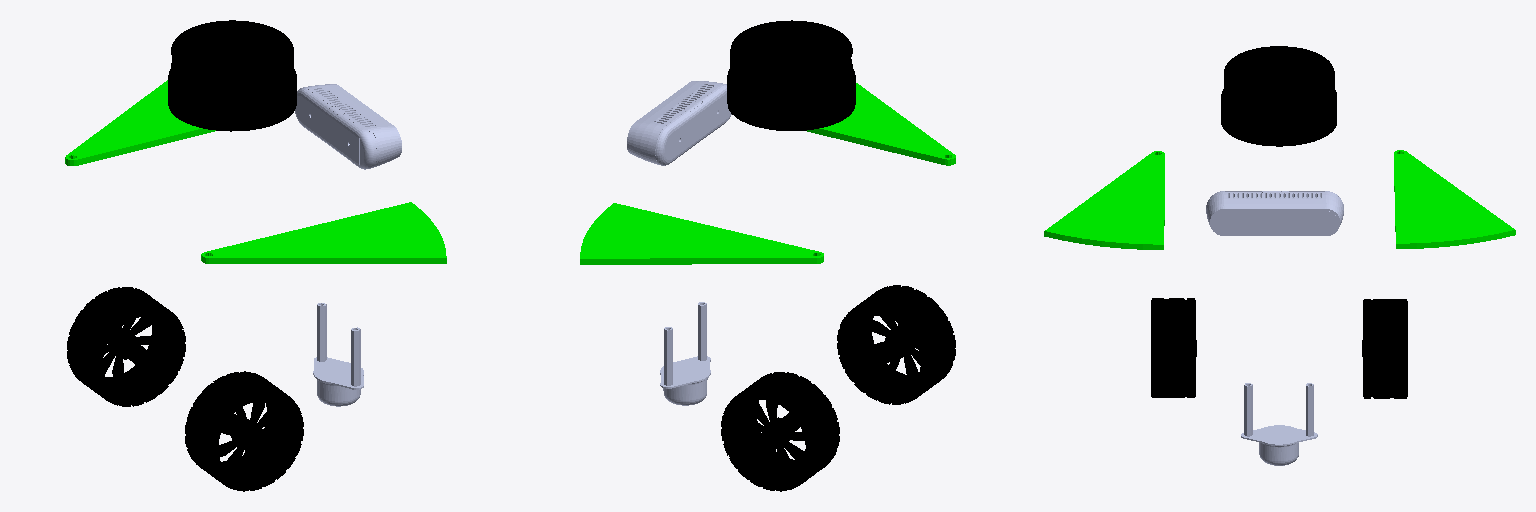
The robot description file, URDF, robot "rectbot":
<?xml version="1.0" encoding="utf-8"?>
<robot name="rectbot">

  <link name="base_footprint"/>

  <joint name="base_joint" type="fixed">
    <parent link="base_footprint"/>
    <child link="base_link"/>
    <origin xyz="0 0 0.055" rpy="0 0 0"/>
  </joint>

  <link name="base_link">
    <inertial>
      <origin xyz="-0.0090897 -0.00057293 0.056052" rpy="0 0 0" />
      <mass value="1.3" />
      <inertia ixx="0.002002649" ixy="0" ixz="0"
               iyy="0.002237316" iyz="0"
               izz="0.004187977" />
    </inertial>
    <visual>
      <origin xyz="0 0 0" rpy="0 0 0" />
      <geometry>
        <mesh filename="package://rectbot_description/meshes/base_link.STL" />
      </geometry>
      <material name="white">
        <color rgba="1 1 1 1" />
      </material>
    </visual>
    <collision>
      <origin xyz="-0.005 0 0.0775" rpy="0 0 0" />
      <geometry>
        <box size="0.18 0.18 0.155"/>
      </geometry>
    </collision>
  </link>

  <link name="left_wheel_link">
    <inertial>
      <origin xyz="0 0 0" rpy="0 0 0" />
      <mass value="0.05" />
      <inertia ixx="2.19136097E-05" ixy="0" ixz="0"
               iyy="3.68739994E-05" iyz="0"
               izz="2.19509956E-05" />
    </inertial>
    <visual>
      <origin xyz="0 0 0" rpy="0 0 0" />
      <geometry>
        <mesh filename="package://rectbot_description/meshes/left_wheel_link.STL" />
      </geometry>
      <material name="black">
        <color rgba="0 0 0 1" />
      </material>
    </visual>
    <collision>
      <origin xyz="0 0.0125 0" rpy="-1.57 0 0" />
      <geometry>
        <cylinder length="0.025" radius="0.0325"/>
      </geometry>3.9044
    </collision>
  </link>

  <joint name="left_wheel_joint" type="continuous">
    <origin xyz="-0.038393 0.055 -0.0225" rpy="0 0 0" />
    <parent link="base_link" />
    <child link="left_wheel_link" />
    <axis xyz="0 1 0" />
  </joint>

  <transmission name="left_wheel_trans">
    <type>transmission_interface/SimpleTransmission</type>
    <joint name="left_wheel_joint">
      <hardwareInterface>hardware_interface/VelocityJointInterface</hardwareInterface>
    </joint>
    <actuator name="left_wheel_motor">
      <hardwareInterface>hardware_interface/VelocityJointInterface</hardwareInterface>
      <mechanicalReduction>1</mechanicalReduction>
    </actuator>
  </transmission>

  <link name="right_wheel_link">
    <inertial>
      <origin xyz="0 0 0" rpy="0 0 0" />
      <mass value="0.05" />
      <inertia ixx="2.19136097E-05" ixy="0" ixz="0"
               iyy="3.68739994E-05" iyz="0"
               izz="2.19509956E-05" />
    </inertial>
    <visual>
      <origin xyz="0 0 0" rpy="0 0 0" />
      <geometry>
        <mesh filename="package://rectbot_description/meshes/right_wheel_link.STL" />
      </geometry>
      <material name="black">
        <color rgba="0 0 0 1" />
      </material>
    </visual>
    <collision>
      <origin xyz="0 -0.0125 0" rpy="-1.57 0 0" />
      <geometry>
        <cylinder length="0.025" radius="0.0325"/>
      </geometry>
    </collision>
  </link>

  <joint name="right_wheel_joint" type="continuous">
    <origin xyz="-0.038393 -0.055 -0.0225" rpy="0 0 0" />
    <parent link="base_link" />
    <child link="right_wheel_link" />
    <axis xyz="0 1 0" />
  </joint>

  <transmission name="right_wheel_trans">
    <type>transmission_interface/SimpleTransmission</type>
    <joint name="right_wheel_joint">
      <hardwareInterface>hardware_interface/VelocityJointInterface</hardwareInterface>
    </joint>
    <actuator name="right_wheel_motor">
      <hardwareInterface>hardware_interface/VelocityJointInterface</hardwareInterface>
      <mechanicalReduction>1</mechanicalReduction>
    </actuator>
  </transmission>

  <link name="left_wing_link">
    <inertial>
      <origin xyz="0.083733 0.023264 0.002" rpy="0 0 0" />
      <mass value="0.02" />
      <inertia ixx="6.983090931E-06" ixy="-5.077687122E-06" ixz="0"
               iyy="2.384927673E-05" iyz="0"
               izz="3.077844783E-05" />
    </inertial>
    <visual>
      <origin xyz="0 0 0" rpy="0 0 0" />
      <geometry>
        <mesh filename="package://rectbot_description/meshes/left_wing_link.STL" />
      </geometry>
      <material name="green">
        <color rgba="0 1 0 1" />
      </material>
    </visual>
    <collision>
      <origin xyz="0 0 0" rpy="0 0 0" />
      <geometry>
        <mesh filename="package://rectbot_description/meshes/left_wing_link.STL" />
      </geometry>
    </collision>
  </link>

  <joint name="left_wing_joint" type="revolute">
    <origin xyz="-0.069779 0.079 0.0995" rpy="0 0 0" />
    <parent link="base_link" />
    <child link="left_wing_link" />
    <axis xyz="0 0 -1" />
    <limit lower="0" upper="0.6" effort="1" velocity="1" />
  </joint>

  <transmission name="left_wing_trans">
    <type>transmission_interface/SimpleTransmission</type>
    <joint name="left_wing_joint">
      <hardwareInterface>hardware_interface/PositionJointInterface</hardwareInterface>
    </joint>
    <actuator name="left_wing_motor">
      <hardwareInterface>hardware_interface/PositionJointInterface</hardwareInterface>
      <mechanicalReduction>1</mechanicalReduction>
    </actuator>
  </transmission>

  <link name="right_wing_link">
    <inertial>
      <origin xyz="0.083894 -0.022676 0.002" rpy="0 0 0" />
      <mass value="0.02" />
      <inertia ixx="6.912932088E-06" ixy="4.959284221E-06" ixz="0"
               iyy="2.391943557E-05" iyz="0"
               izz="3.077844783E-05" />
    </inertial>
    <visual>
      <origin xyz="0 0 0" rpy="0 0 0" />
      <geometry>
        <mesh filename="package://rectbot_description/meshes/right_wing_link.STL" />
      </geometry>
      <material name="green">
        <color rgba="0 1 0 1" />
      </material>
    </visual>
    <collision>
      <origin xyz="0 0 0" rpy="0 0 0" />
      <geometry>
        <mesh filename="package://rectbot_description/meshes/right_wing_link.STL" />
      </geometry>
    </collision>
  </link>

  <joint name="right_wing_joint" type="revolute">
    <origin xyz="-0.068377 -0.0788 0.0995" rpy="0 0 0" />
    <parent link="base_link" />
    <child link="right_wing_link" />
    <axis xyz="0 0 1" />
    <limit lower="0" upper="0.6" effort="1" velocity="1" />
  </joint>

  <transmission name="right_wing_trans">
    <type>transmission_interface/SimpleTransmission</type>
    <joint name="right_wing_joint">
      <hardwareInterface>hardware_interface/PositionJointInterface</hardwareInterface>
    </joint>
    <actuator name="right_wing_motor">
      <hardwareInterface>hardware_interface/PositionJointInterface</hardwareInterface>
      <mechanicalReduction>1</mechanicalReduction>
    </actuator>
  </transmission>

  <link name="caster_link">
    <inertial>
      <origin xyz="2.7756E-17 4.1633E-17 -0.045233" rpy="0 0 0" />
      <mass value="0.04" />
      <inertia ixx="29.119577105E-07" ixy="0" ixz="0"
               iyy="24.748450602E-07" iyz="0"
               izz="33.014339532E-07" />
    </inertial>
    <visual>
      <origin xyz="0 0 0" rpy="0 0 0" />
      <geometry>
        <mesh filename="package://rectbot_description/meshes/caster_link.STL" />
      </geometry>
      <material name="gray">
        <color rgba="0.79216 0.81961 0.93333 1" />
      </material>
    </visual>
    <collision>
      <origin xyz="0 0 -0.0275" rpy="0 0 0" />
      <geometry>
        <cylinder length="0.055" radius="0.015"/>
      </geometry>
    </collision>
  </link>

  <joint name="caster_joint" type="fixed">
    <origin xyz="0.065438 0 0" rpy="0 0 0" />
    <parent link="base_link" />
    <child link="caster_link" />
    <axis xyz="0 0 0" />
  </joint>

  <link name="imu_link"/>

  <joint name="imu_joint" type="fixed">
    <parent link="base_link"/>
    <child link="imu_link"/>
    <origin xyz="-0.08 0.0 0.09" rpy="0 0 0"/>
  </joint>

  <link name="camera_link">
    <inertial>
      <origin xyz="-0.013049 0.00024621 0.0099394" rpy="0 0 0" />
      <mass value="0.26" />
      <inertia ixx="15.84796210E-05" ixy="0" ixz="0"
               iyy="22.91790311E-06" iyz="0"
               izz="15.89676439E-05" />
    </inertial>
    <visual>
      <origin xyz="0 0 0" rpy="0 0 0" />
      <geometry>
        <mesh filename="package://rectbot_description/meshes/camera_link.STL" />
      </geometry>
      <material name="gray">
        <color rgba="0.79216 0.81961 0.93333 1" />
      </material>
    </visual>
    <collision>
      <origin xyz="0 0 0" rpy="0 0 0" />
      <geometry>
        <mesh filename="package://rectbot_description/meshes/camera_link.STL" />
      </geometry>
    </collision>
  </link>

  <joint name="camera_joint" type="fixed">
    <origin xyz="0.082529 -0.0026396 0.1145" rpy="0 0 0" />
    <parent link="base_link" />
    <child link="camera_link" />
    <axis xyz="0 0 0" />
  </joint>

  <link name="lidar_link">
    <inertial>
      <origin xyz="-0.00036629 -7.172E-06 0.019067" rpy="0 0 0" />
      <mass value="0.43" />
      <inertia ixx="20.258581731E-05" ixy="0" ixz="0"
               iyy="19.877938699E-05" iyz="0"
               izz="0.000290405" />
    </inertial>
    <visual>
      <origin xyz="0 0 0" rpy="0 0 0" />
      <geometry>
        <mesh filename="package://rectbot_description/meshes/lidar_link.STL" />
      </geometry>
      <material name="black">
        <color rgba="0 0 0 1" />
      </material>
    </visual>
    <collision>
      <origin xyz="0 0 0" rpy="0 0 0" />
      <geometry>
        <mesh filename="package://rectbot_description/meshes/lidar_link.STL" />
      </geometry>
    </collision>
  </link>

  <joint name="lidar_joint" type="fixed">
    <origin xyz="-0.0068617 0 0.155" rpy="0 0 3.14" />
    <parent link="base_link" />
    <child link="lidar_link" />
    <axis xyz="0 0 0" />
  </joint>
</robot>

--- What the picture shows (computed from the rendered views, not written in the file) ---
3 views of the same robot in one strip: view 1: azimuth 30°, elevation 25°; view 2: azimuth 150°, elevation 25°; view 3: azimuth 270°, elevation 25° (orthographic).
Model rectbot with 10 links and 9 joints (2 revolute, 2 continuous, 5 fixed), rooted at base_footprint, posed every joint at zero.
Links seen in each view (by area): view 1: lidar_link, right_wheel_link, left_wheel_link, right_wing_link, camera_link, left_wing_link, caster_link; view 2: lidar_link, right_wheel_link, left_wheel_link, left_wing_link, camera_link, right_wing_link, caster_link; view 3: lidar_link, right_wing_link, left_wing_link, camera_link, left_wheel_link, right_wheel_link, caster_link.
Boxes of the visible links, x1=… form: lidar_link: x1=168, y1=20, x2=296, y2=131; right_wheel_link: x1=185, y1=371, x2=303, y2=491; left_wheel_link: x1=67, y1=287, x2=185, y2=406; right_wing_link: x1=201, y1=202, x2=446, y2=263; camera_link: x1=295, y1=84, x2=401, y2=169; left_wing_link: x1=65, y1=80, x2=215, y2=165; caster_link: x1=313, y1=303, x2=363, y2=406; lidar_link: x1=727, y1=20, x2=855, y2=130; right_wheel_link: x1=837, y1=285, x2=955, y2=404; left_wheel_link: x1=721, y1=372, x2=839, y2=491; left_wing_link: x1=580, y1=203, x2=823, y2=264; camera_link: x1=627, y1=81, x2=731, y2=165; right_wing_link: x1=807, y1=83, x2=955, y2=165; caster_link: x1=660, y1=302, x2=710, y2=405; lidar_link: x1=1221, y1=46, x2=1336, y2=146; right_wing_link: x1=1044, y1=151, x2=1164, y2=249; left_wing_link: x1=1394, y1=150, x2=1515, y2=248; camera_link: x1=1206, y1=191, x2=1343, y2=235; left_wheel_link: x1=1362, y1=299, x2=1407, y2=398; right_wheel_link: x1=1151, y1=298, x2=1196, y2=397; caster_link: x1=1241, y1=383, x2=1317, y2=465.
Size in the robot's own frame: 0.1567 by 0.3066 by 0.2515 metres.
Meshes: 8 distinct files referenced, 7 mesh visuals loaded (7 binary STL); not drawn: 1 (reference not matched to a file when rendering).